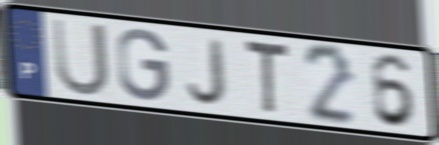2: (300, 40, 363, 128)
6: (369, 51, 417, 131)
G: (115, 26, 172, 104)
J: (184, 36, 228, 108)
T: (241, 36, 292, 119)
U: (49, 15, 113, 99)
